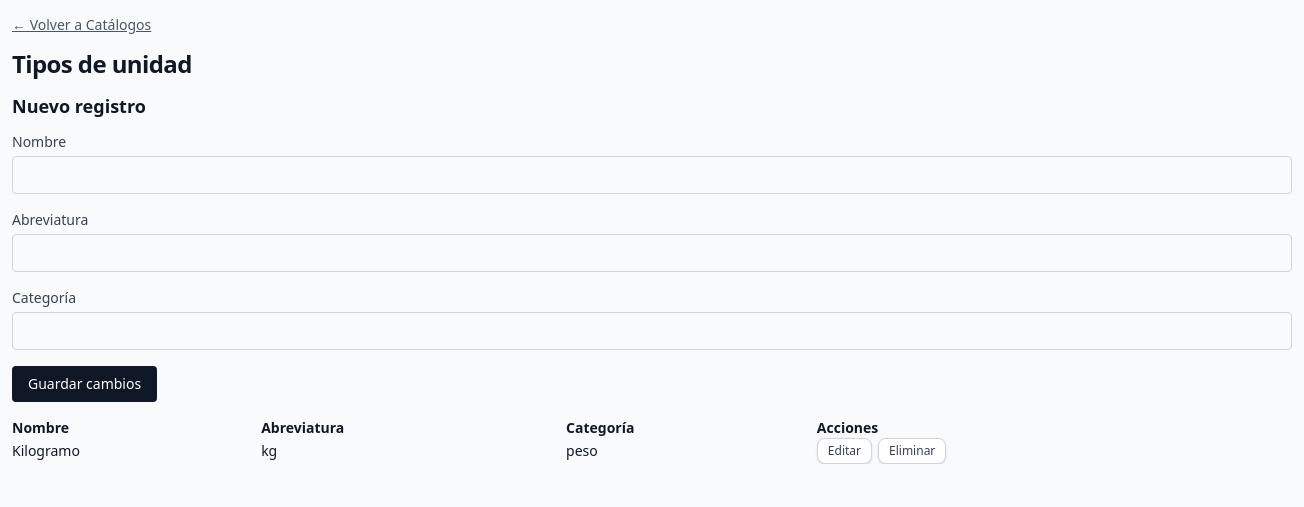
Test: CatalogCrudPage · unit_types (ADM-9.1 CRUD + ADM-9.5 cero-request) › ADM-9.1: crear ⇒ createCatalogRow con el payload de toDbRow y refetch que muestra la fila nueva
Expected: the text "Kilogramo" is shown, top-left (12, 438), bottom-right (261, 464)
Type "Galón" into the field labelled "Nombre" at point(652, 175), box top-left (12, 156), bottom-right (1292, 194)
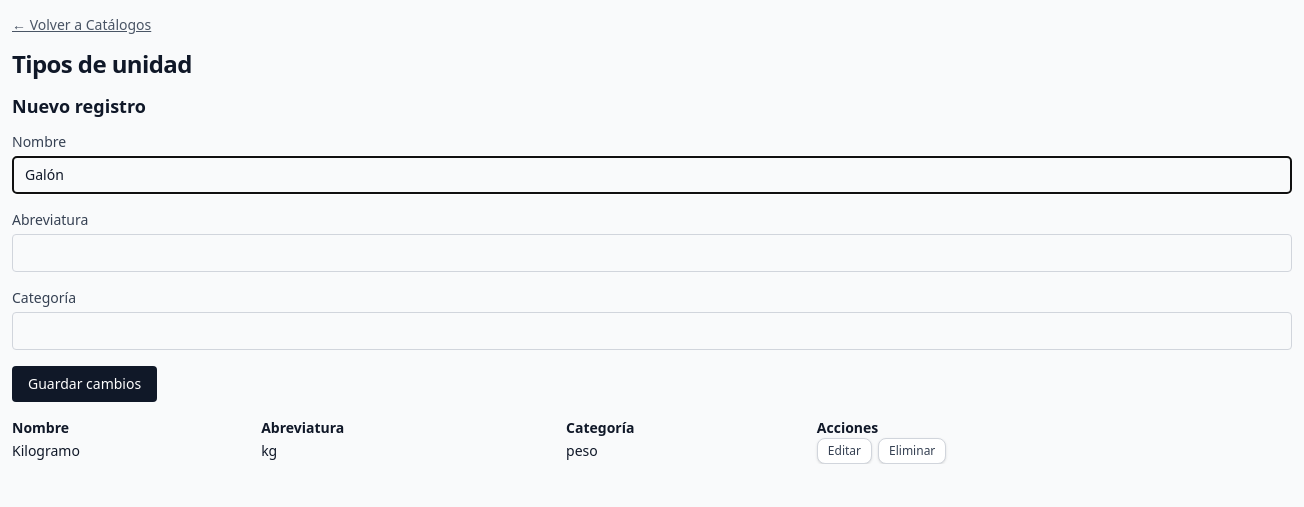
Type "gal" into the field labelled "Abreviatura" at point(652, 253), box top-left (12, 234), bottom-right (1292, 272)
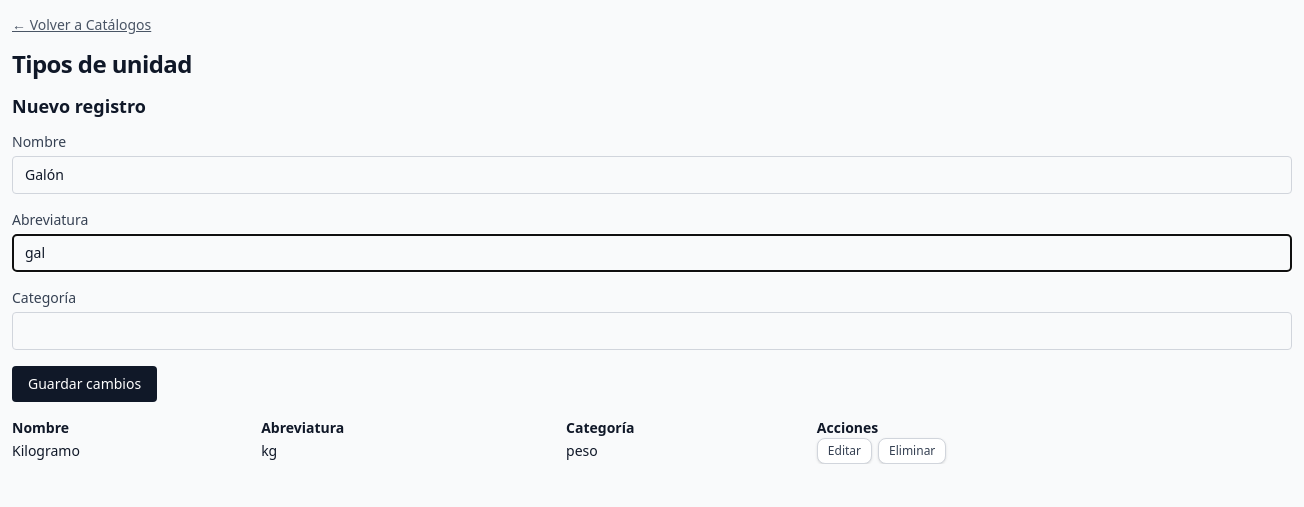
Type "volumen" into the field labelled "Categoría" at point(652, 331), box top-left (12, 312), bottom-right (1292, 350)
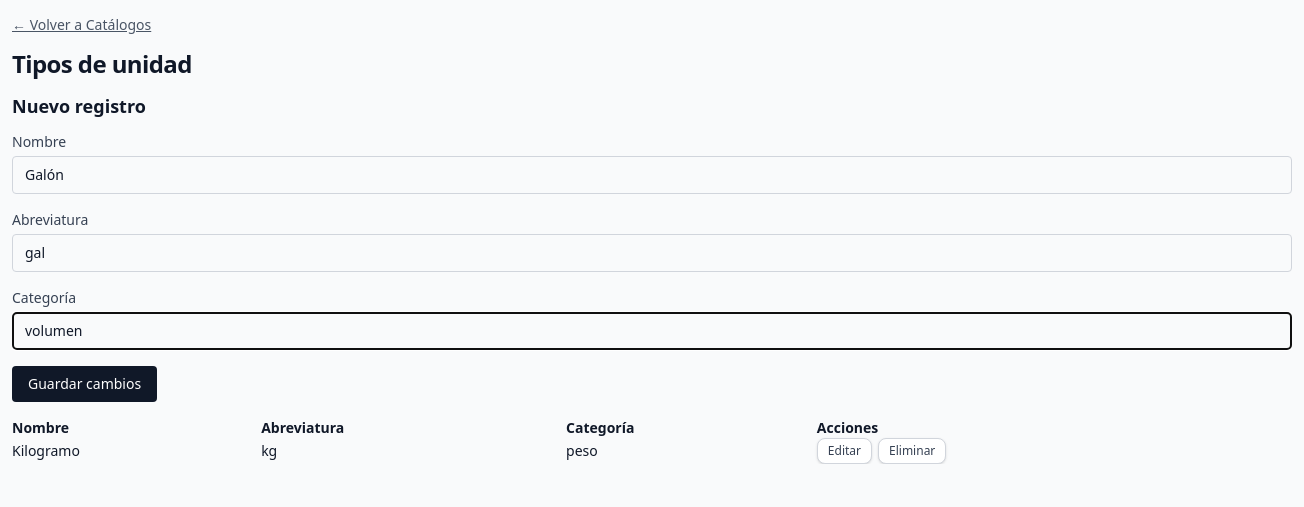
Click the button "Guardar cambios" at point(85, 384), box top-left (12, 366), bottom-right (157, 402)
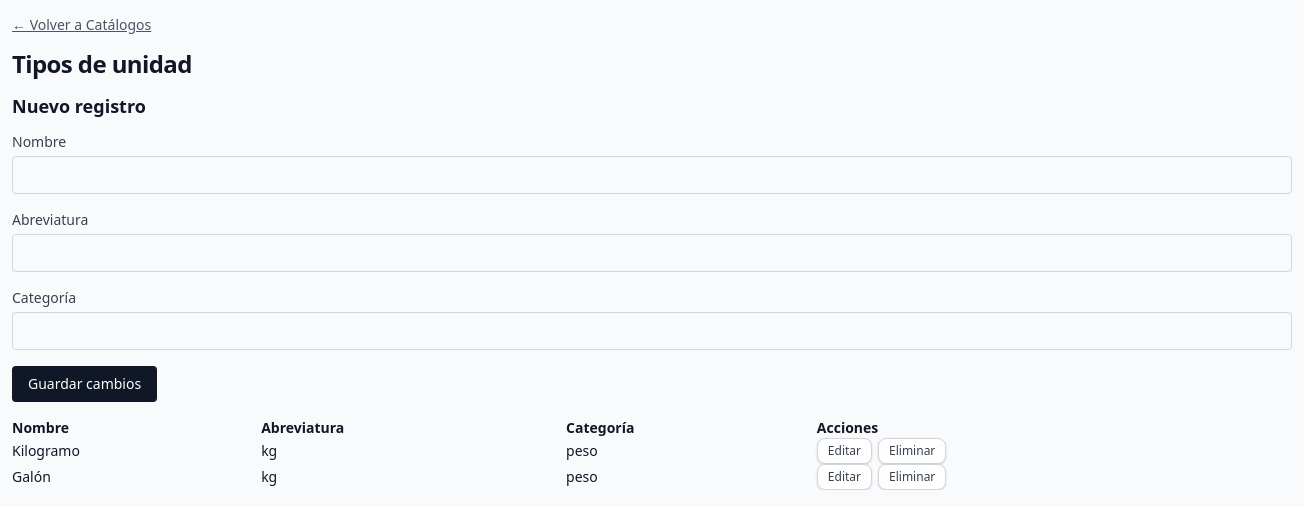
Expected: the text "Galón" is shown, top-left (12, 464), bottom-right (261, 490)
